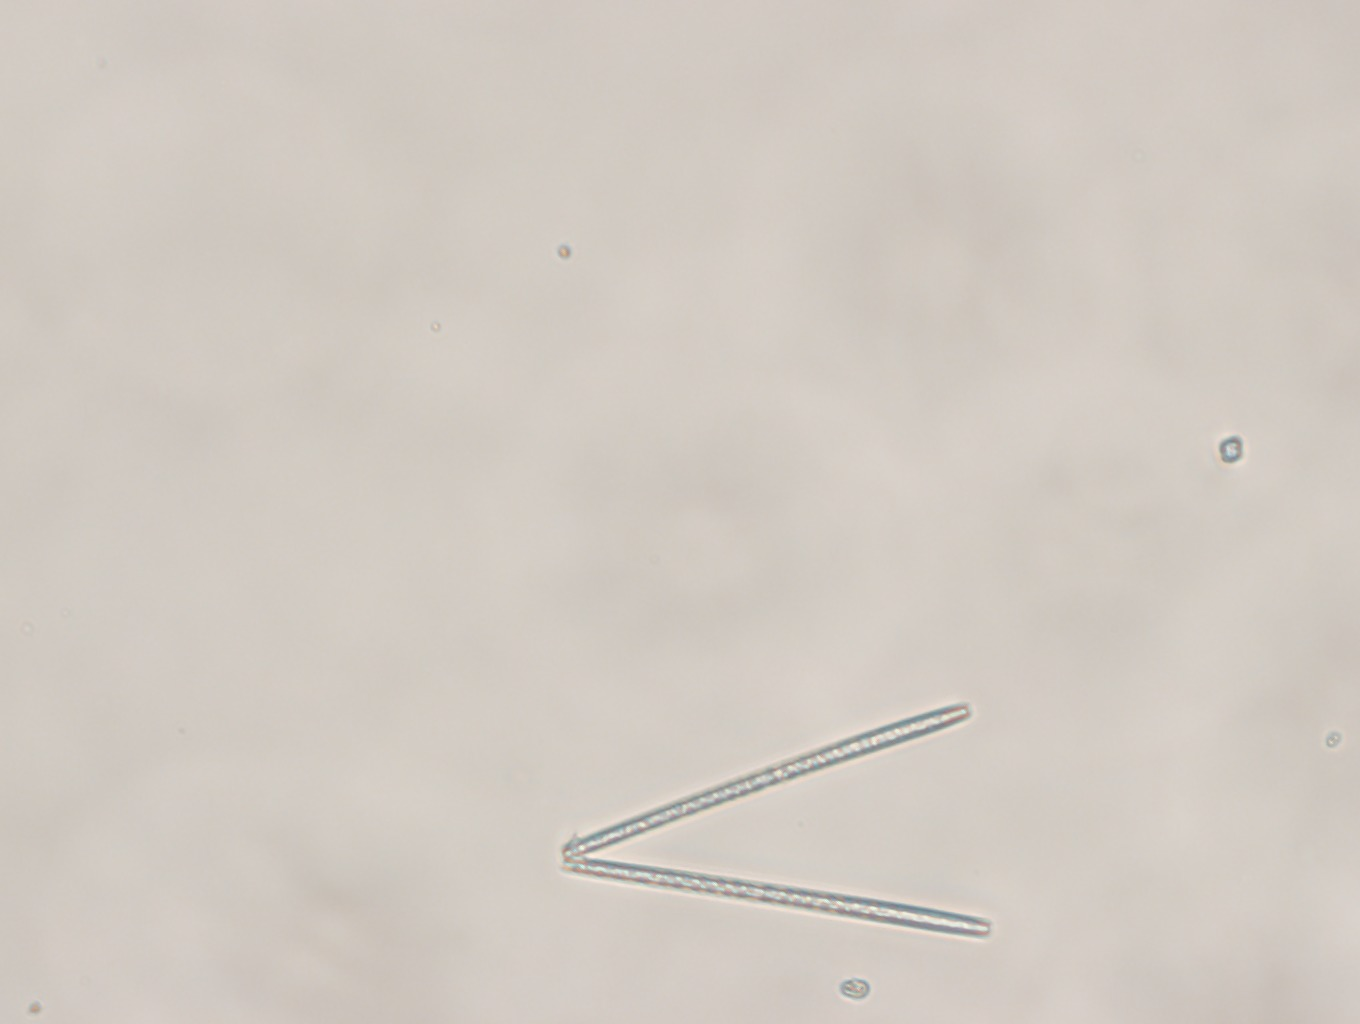thalassionema frauenfeldii: (556, 694, 997, 948)
